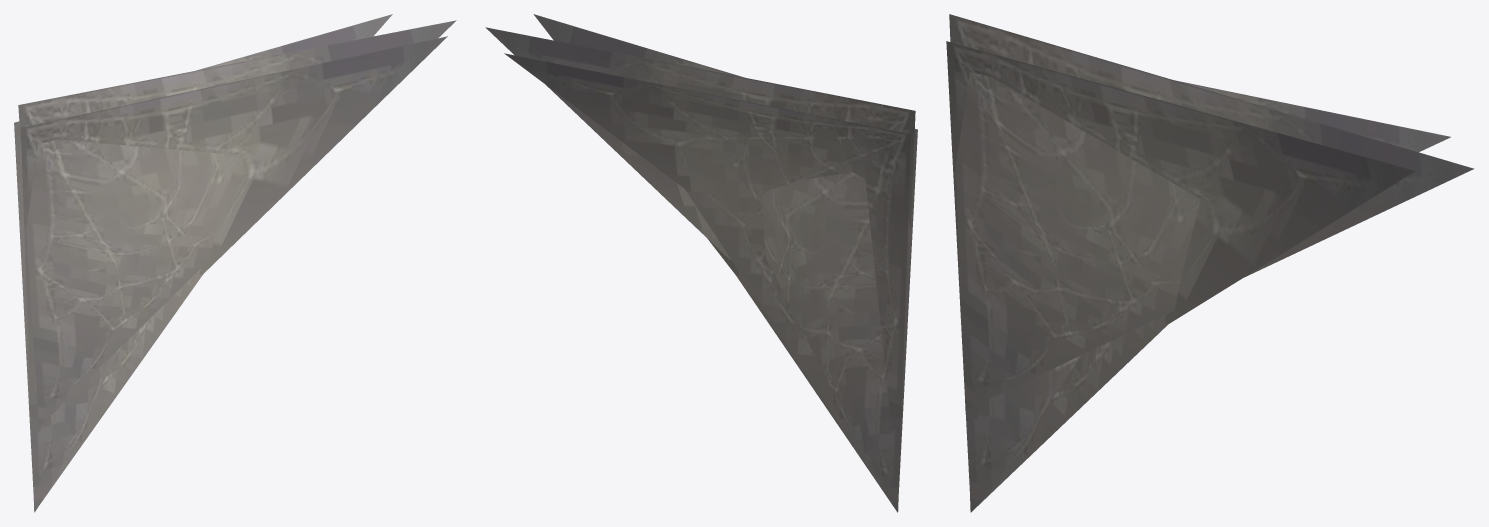
The picture shows the model from 3 angles, left to right: view 1: azimuth 30°, elevation 25°; view 2: azimuth 150°, elevation 25°; view 3: azimuth 330°, elevation 25°; orthographic projection. The views are drawn at different scales.
Bounding box in the file's own units: 3.08 × 2.77 × 0.5177.
Materials: 1 (1 with a texture image).
